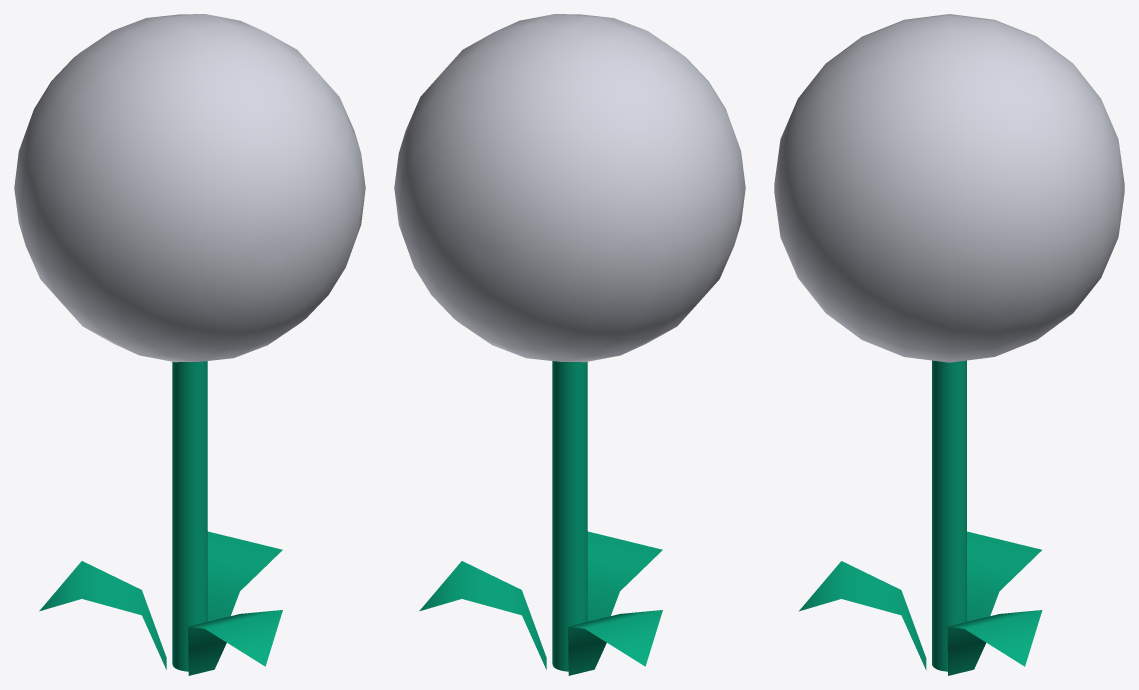
File: plant1.glb
3 renders of one model, left to right at view 1: azimuth 30°, elevation 25°; view 2: azimuth 150°, elevation 25°; view 3: azimuth 270°, elevation 25°, orthographic.
Parts seen in each view (by area): view 1: sphere, plant_large, cylinder; view 2: sphere, plant_large, cylinder; view 3: sphere, plant_large, cylinder.
Part boxes in pixels (<box>): sphere: <box>14,14,365,362</box>; plant_large: <box>39,531,282,675</box>; cylinder: <box>172,361,207,671</box>; sphere: <box>394,14,745,362</box>; plant_large: <box>419,531,662,675</box>; cylinder: <box>552,361,587,671</box>; sphere: <box>774,14,1124,362</box>; plant_large: <box>799,531,1042,675</box>; cylinder: <box>932,360,966,671</box>.
Size of the model in its own units: 1 by 2 by 1.
